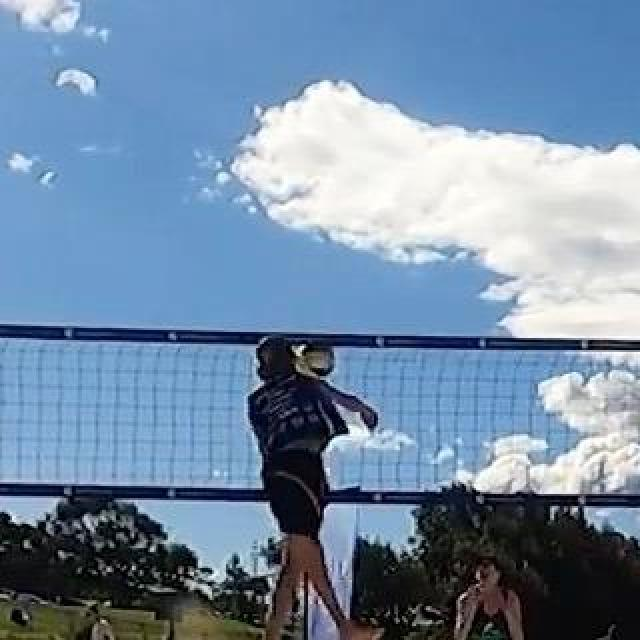volleyball: (297, 339, 335, 377)
